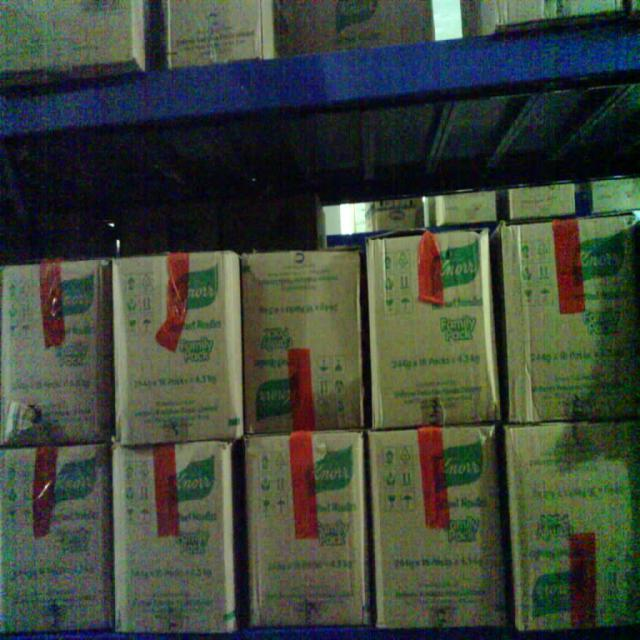box: (505, 228, 640, 422), (510, 432, 640, 633), (371, 437, 504, 633), (112, 450, 239, 635), (118, 257, 238, 445), (372, 242, 496, 423), (251, 432, 366, 623), (245, 255, 364, 430), (2, 447, 111, 635), (1, 265, 108, 445)
